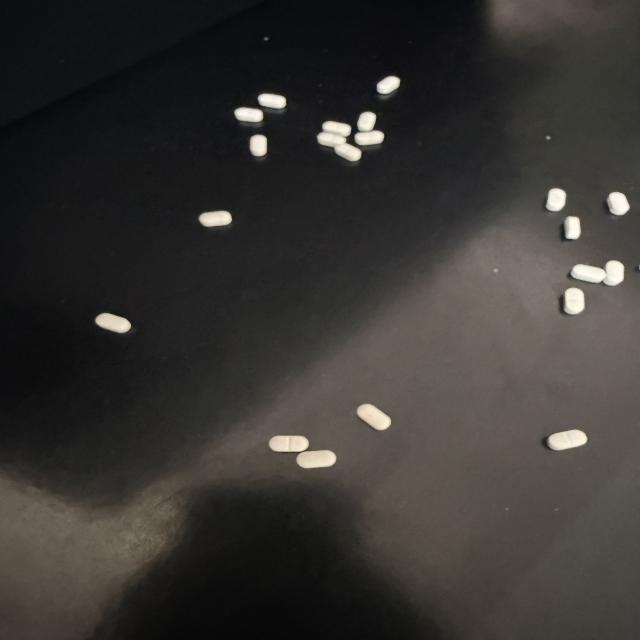pill: (546, 429, 588, 451), (357, 404, 391, 430), (95, 313, 131, 333), (297, 450, 336, 468), (269, 436, 309, 452), (571, 264, 606, 282), (564, 288, 584, 314), (607, 192, 629, 215), (603, 261, 624, 285), (199, 211, 231, 226), (335, 143, 361, 161), (322, 121, 351, 137), (546, 188, 566, 211), (235, 107, 263, 122), (377, 76, 400, 94), (355, 131, 384, 145), (317, 132, 346, 146), (357, 111, 376, 132), (258, 94, 286, 108), (564, 216, 581, 239), (250, 135, 267, 156)
